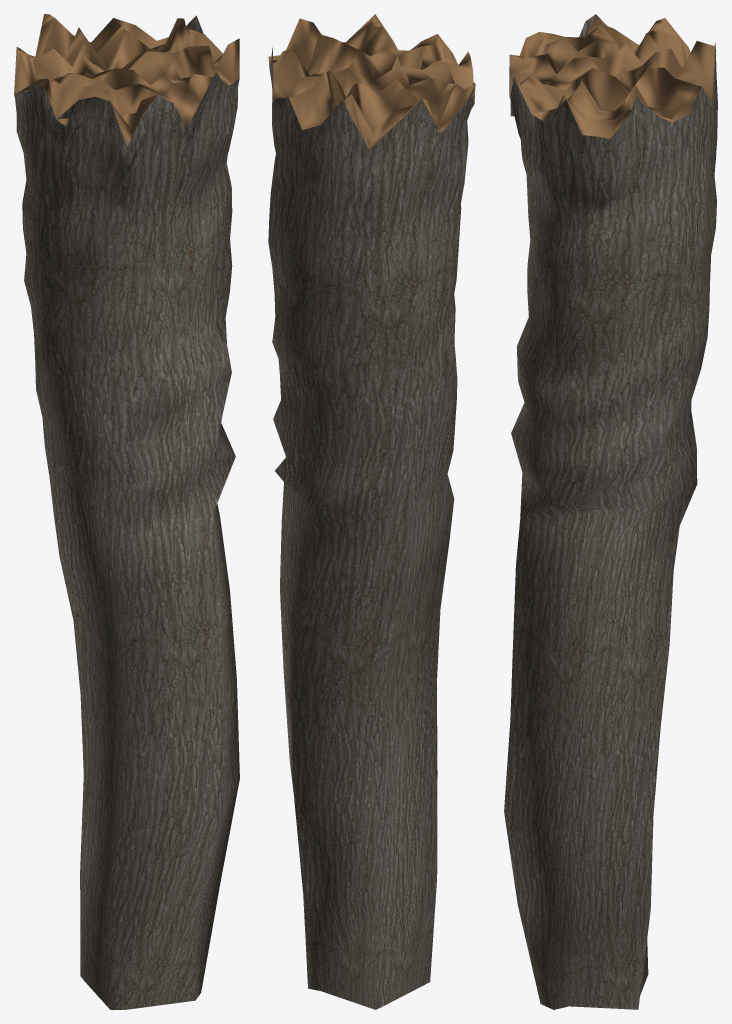
Rendered from tree-05-club.glb.
3 renders of one model, left to right at view 1: azimuth 30°, elevation 25°; view 2: azimuth 150°, elevation 25°; view 3: azimuth 270°, elevation 25°, orthographic.
Parts seen in each view (by area): view 1: WhiteOak_Individual05_Club; view 2: WhiteOak_Individual05_Club; view 3: WhiteOak_Individual05_Club.
Boxes of the visible parts, x1=… form: WhiteOak_Individual05_Club: x1=14, y1=14, x2=239, y2=1009; WhiteOak_Individual05_Club: x1=268, y1=14, x2=475, y2=1009; WhiteOak_Individual05_Club: x1=504, y1=14, x2=717, y2=1009.
Bounding box in the file's own units: 0.7875 × 3.41 × 0.7081.
2 materials, 1 textured.
